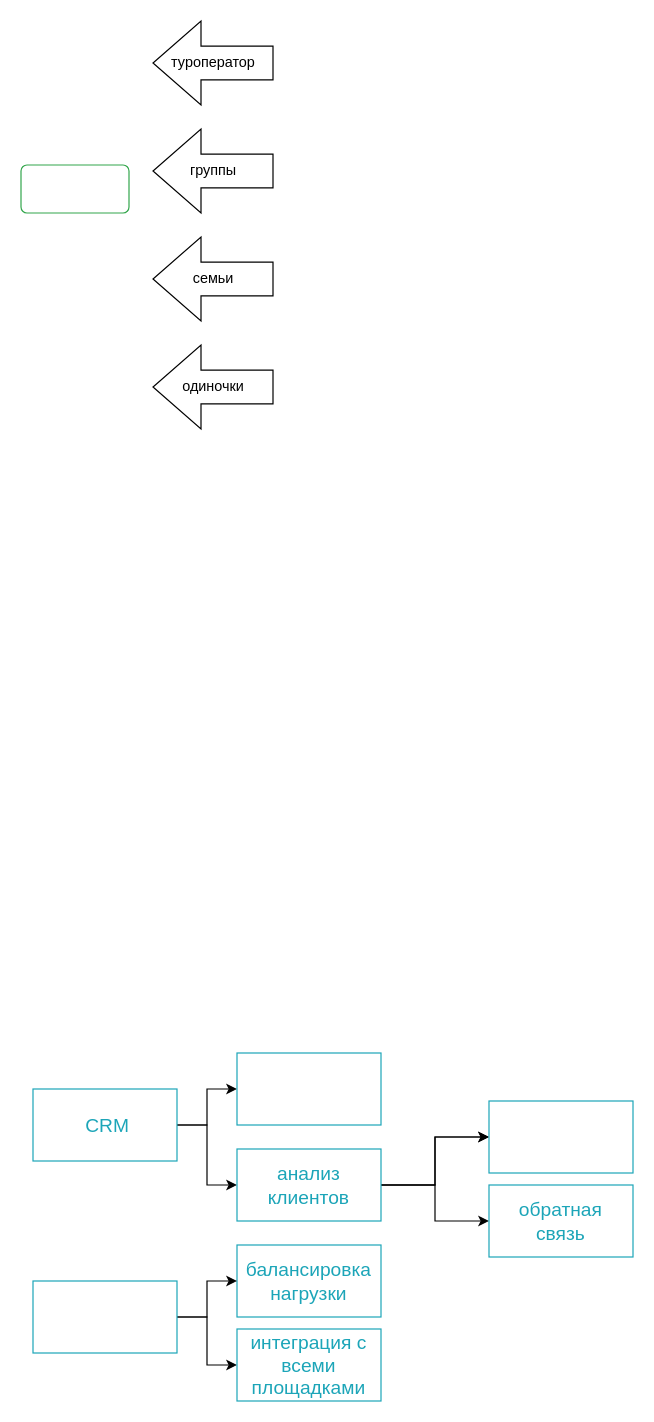
This 654x1422 diagram has some shape labels left out. Each missing label, with the centre of its shape:
"опросы" goes at point 560,1136.
"программы лояльности" goes at point 308,1088.
"система заказов" goes at point 104,1316.
"Целевая аудитория" goes at point 74,188.
